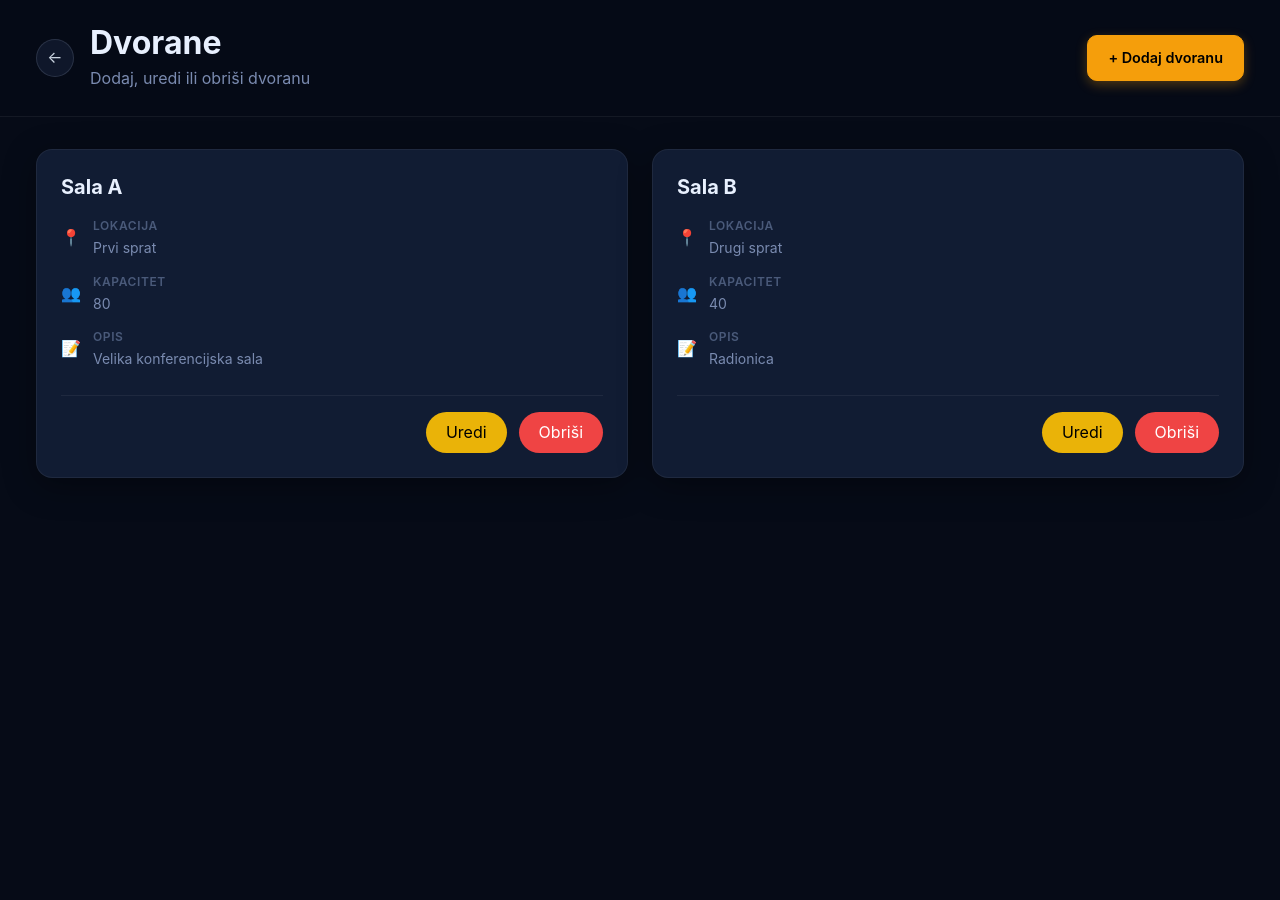
Test: RoomsPage › submit dodavanja poziva API i osvjezena lista prikazuje novu dvoranu
Expected: the heading "Sala A" is shown, x1=61 y1=175 x2=122 y2=199
Click the button "+ Dodaj dvoranu". click: (1166, 58)
box: x1=1087 y1=36 x2=1244 y2=80
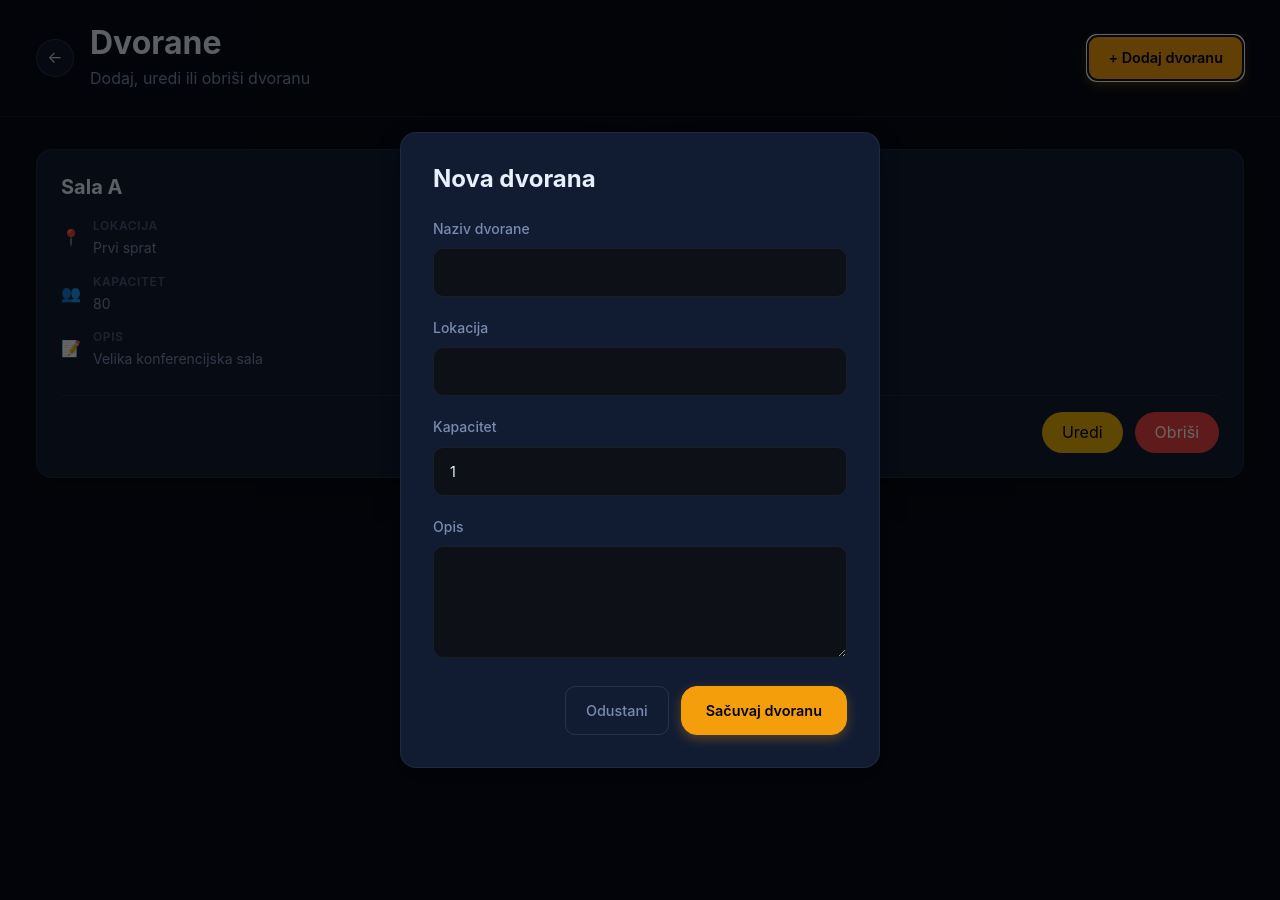
Expected: the text "Nova dvorana" is shown, x1=433 y1=164 x2=596 y2=193
Type "Sala C" into the field below "Naziv dvorane". click: (640, 272)
box: x1=433 y1=248 x2=847 y2=297
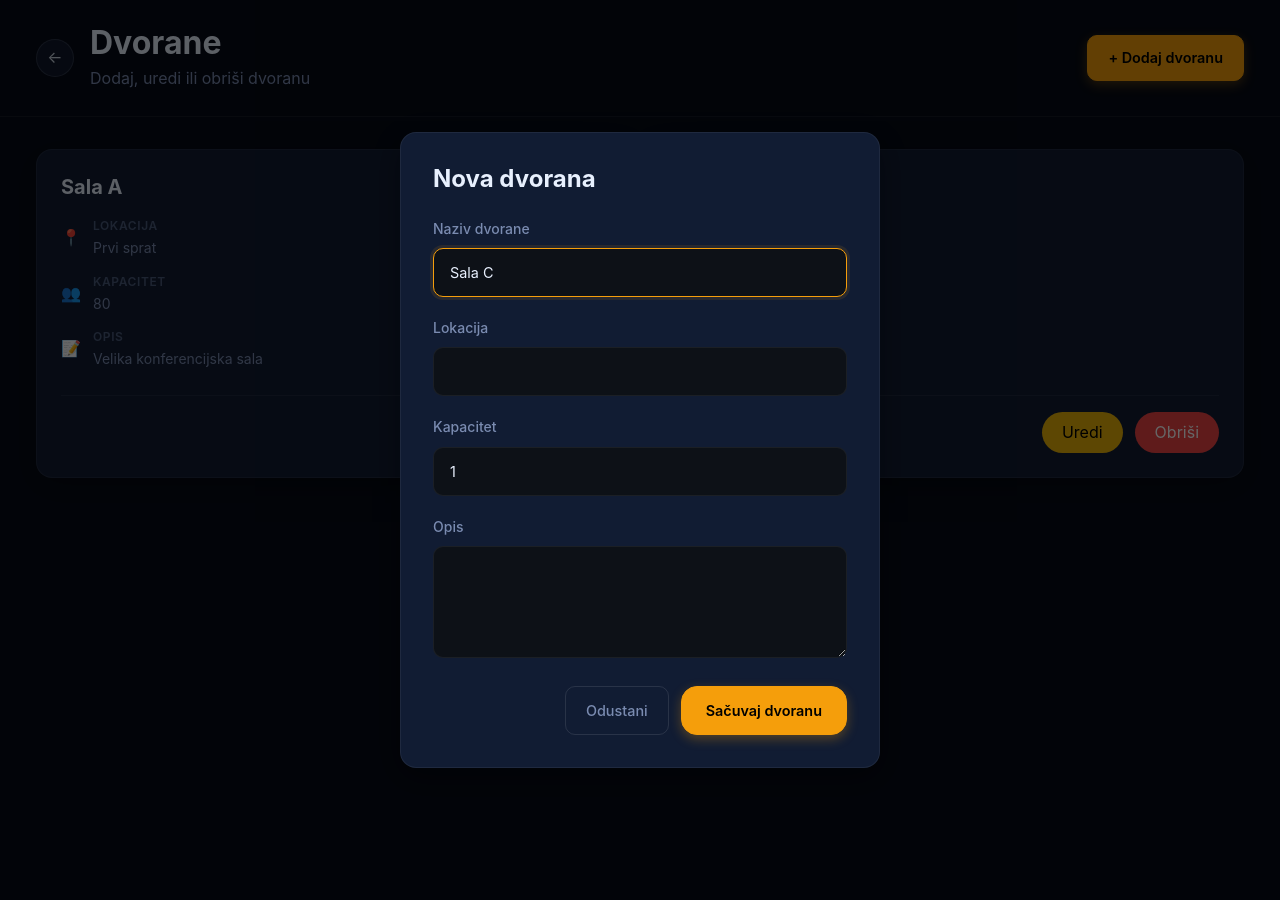
Type "Treci sprat" into the 2nd field. click: (640, 372)
box: x1=433 y1=347 x2=847 y2=396
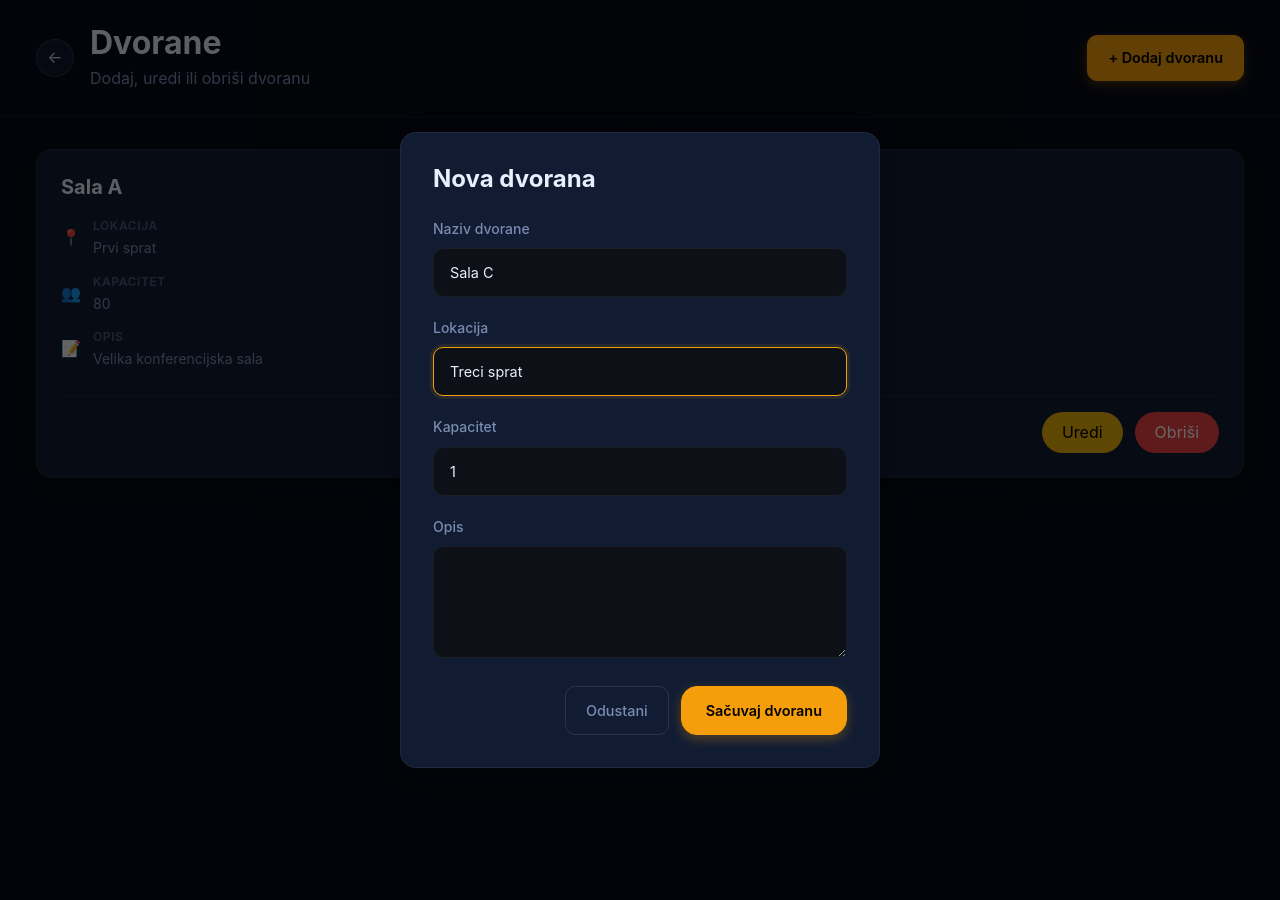
Replace the text in the number field with "25". click: (640, 471)
box: x1=433 y1=447 x2=847 y2=496
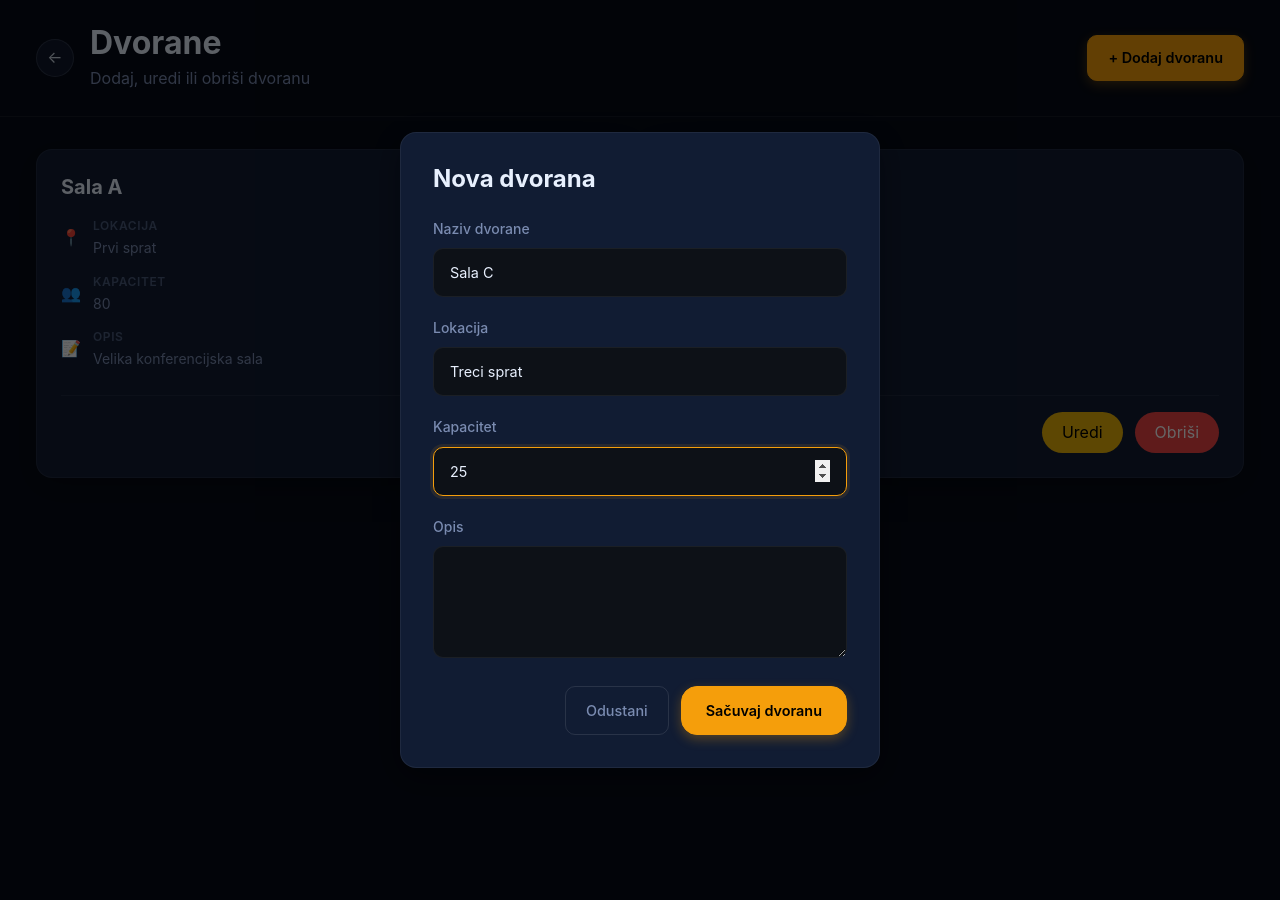
Type "Mala sala" into the text box. click: (640, 602)
box: x1=433 y1=546 x2=847 y2=658
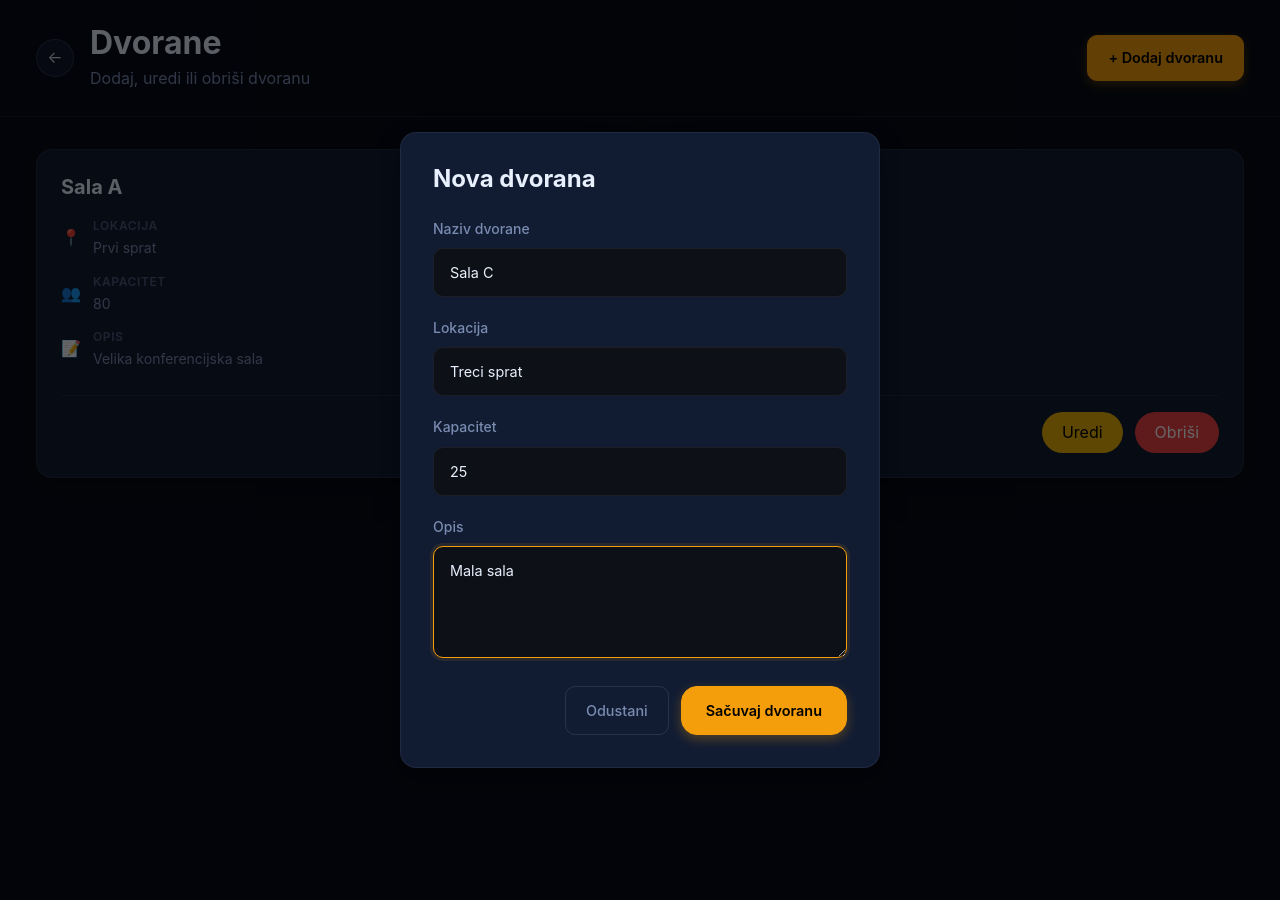
Expected: the text "Nova dvorana" is shown, x1=433 y1=164 x2=596 y2=193
Click the button "Sačuvaj dvoranu". click: (764, 711)
box: x1=681 y1=686 x2=847 y2=735
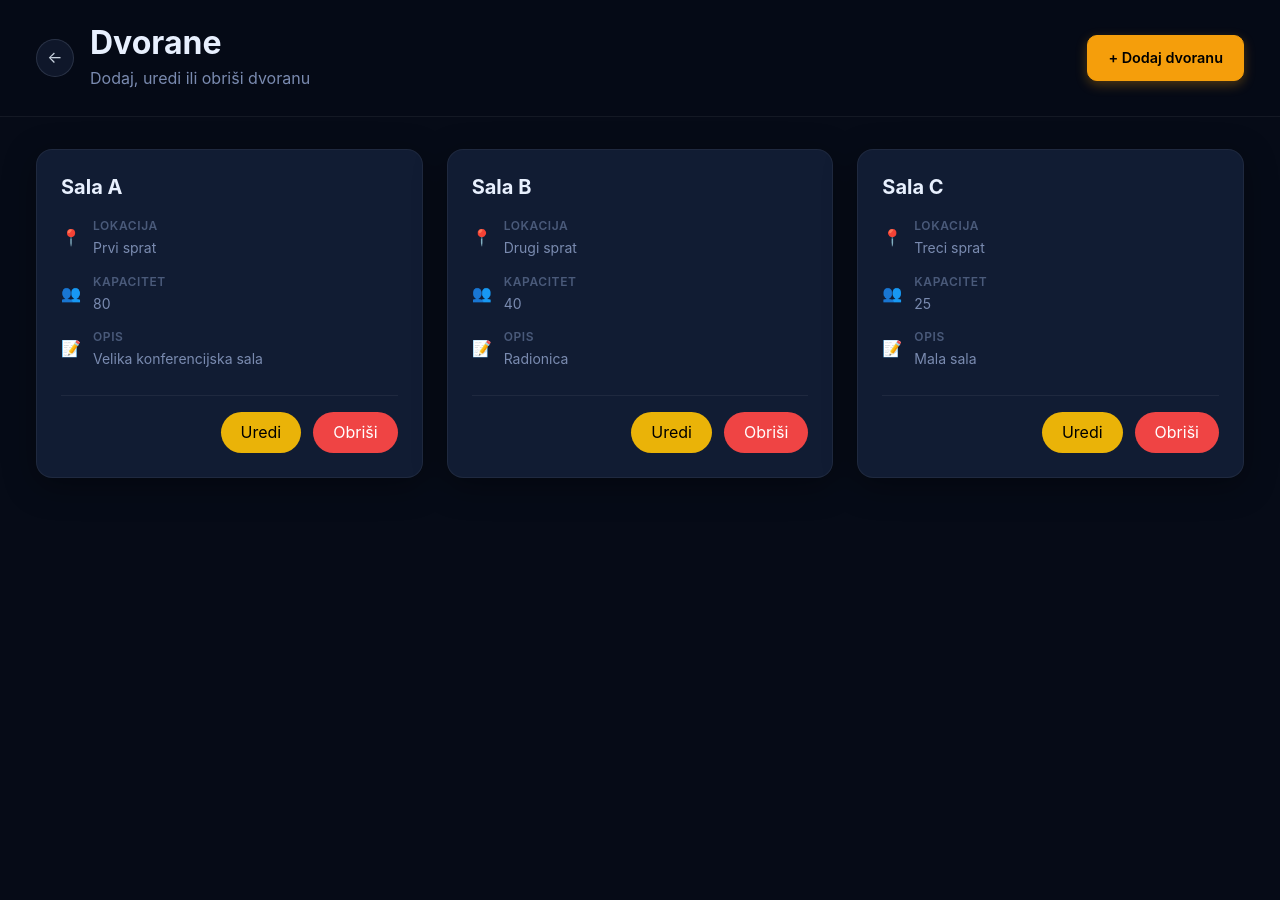
Expected: the heading "Sala C" is shown, x1=882 y1=175 x2=944 y2=199
